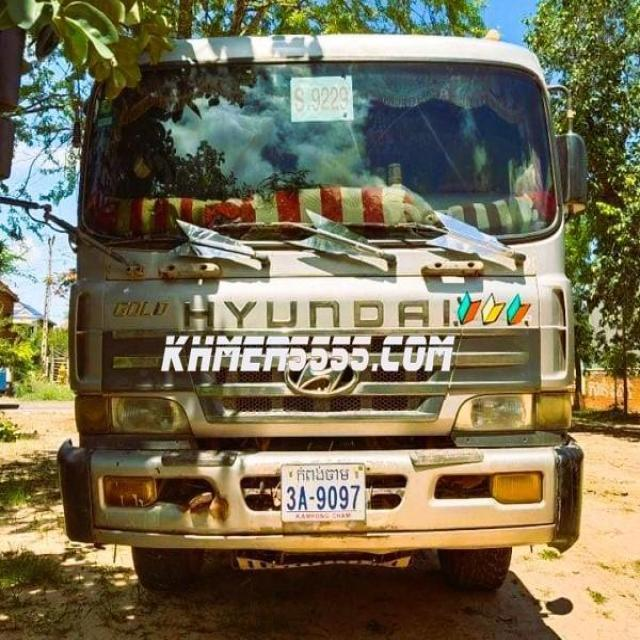Kampong_Cham: (295, 466, 348, 482)
